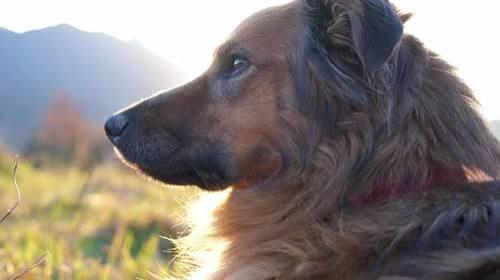adult_dog: (103, 0, 500, 280)
